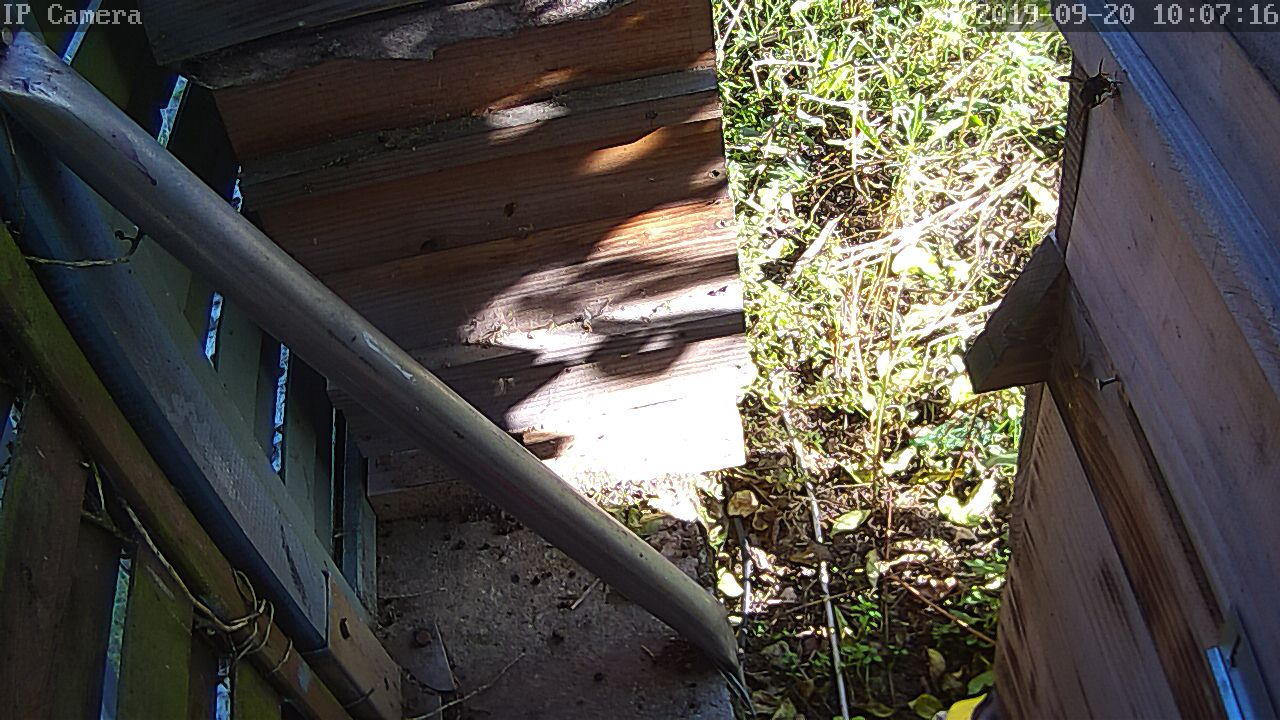hornet: (1055, 69, 1130, 122)
